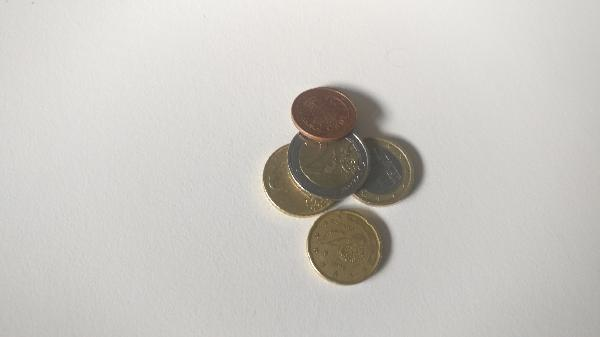Fifty Cent: (263, 141, 331, 214)
Five Cent: (289, 84, 362, 141)
One Euro: (355, 137, 414, 207)
Twenty Cent: (307, 211, 388, 284)
Two Euro: (290, 130, 370, 197)
